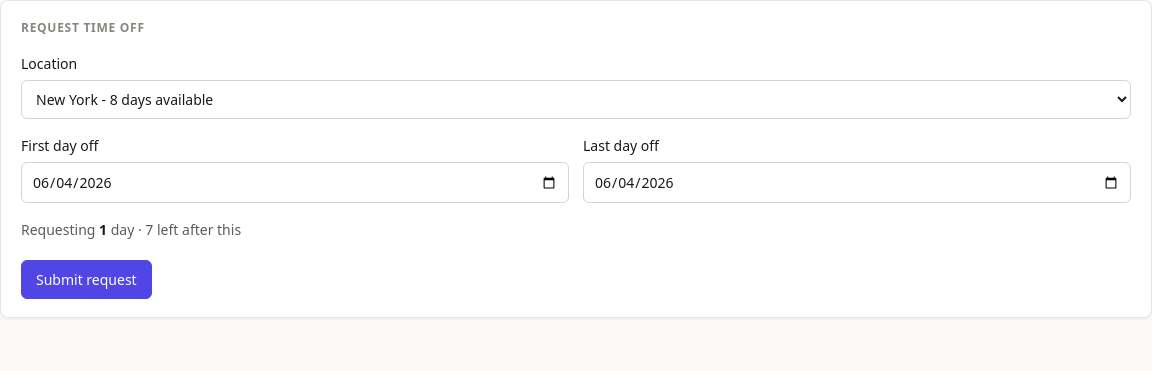
Test: RequestFormView remaining branches › rejects a range longer than maxDays with the per-request cap message
The image size is (1152, 371).
Step 1. Type "2026-08-01" into the date field labelled "First day off" → (295, 182), box x1=21 y1=162 x2=569 y2=203
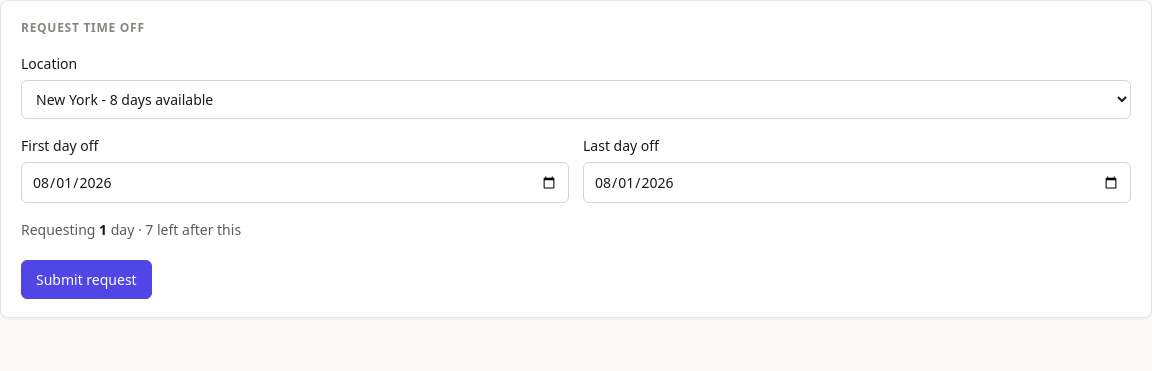
Step 2. Type "2028-08-01" into the date field labelled "Last day off" → (857, 182), box x1=583 y1=162 x2=1131 y2=203
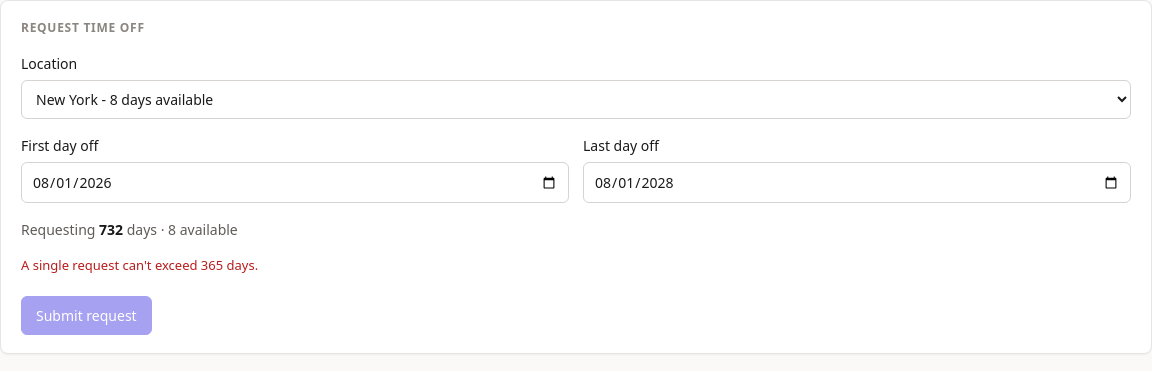
Expected: the text "A single request can't exceed 365 days." is shown, x1=21 y1=256 x2=258 y2=274
Expected: the button "Submit request" is disabled, x1=21 y1=296 x2=152 y2=334
